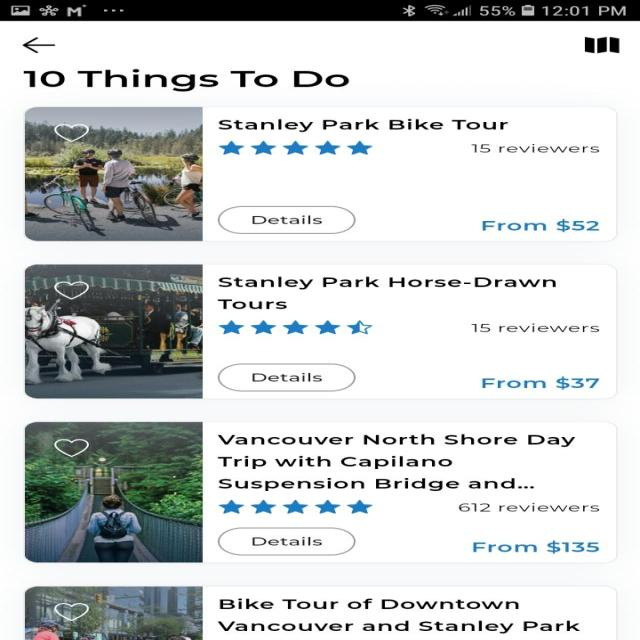Icon: (218, 499, 372, 513), (218, 320, 372, 334), (218, 140, 372, 154), (54, 280, 90, 300), (53, 124, 89, 142), (583, 36, 619, 54), (54, 602, 88, 620), (54, 438, 88, 456), (22, 37, 55, 53)
Image: (25, 422, 203, 562), (24, 264, 202, 398), (25, 107, 203, 241), (25, 586, 203, 639)
Text: (216, 598, 580, 634), (217, 434, 575, 469), (217, 276, 556, 309), (23, 68, 349, 92), (218, 477, 534, 491), (218, 118, 508, 132), (472, 540, 599, 554), (482, 218, 598, 232), (481, 376, 598, 389), (458, 502, 600, 511), (470, 323, 598, 332), (470, 144, 598, 153)
TextButton: (217, 205, 356, 234), (218, 527, 356, 555), (218, 363, 356, 391)
